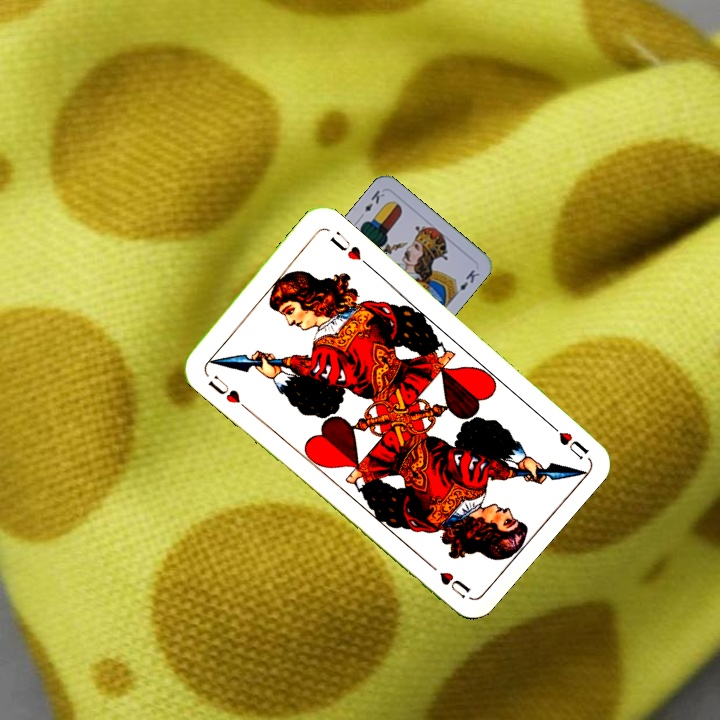EK: (355, 186, 387, 222)
HU: (542, 416, 592, 462), (204, 370, 243, 406)
